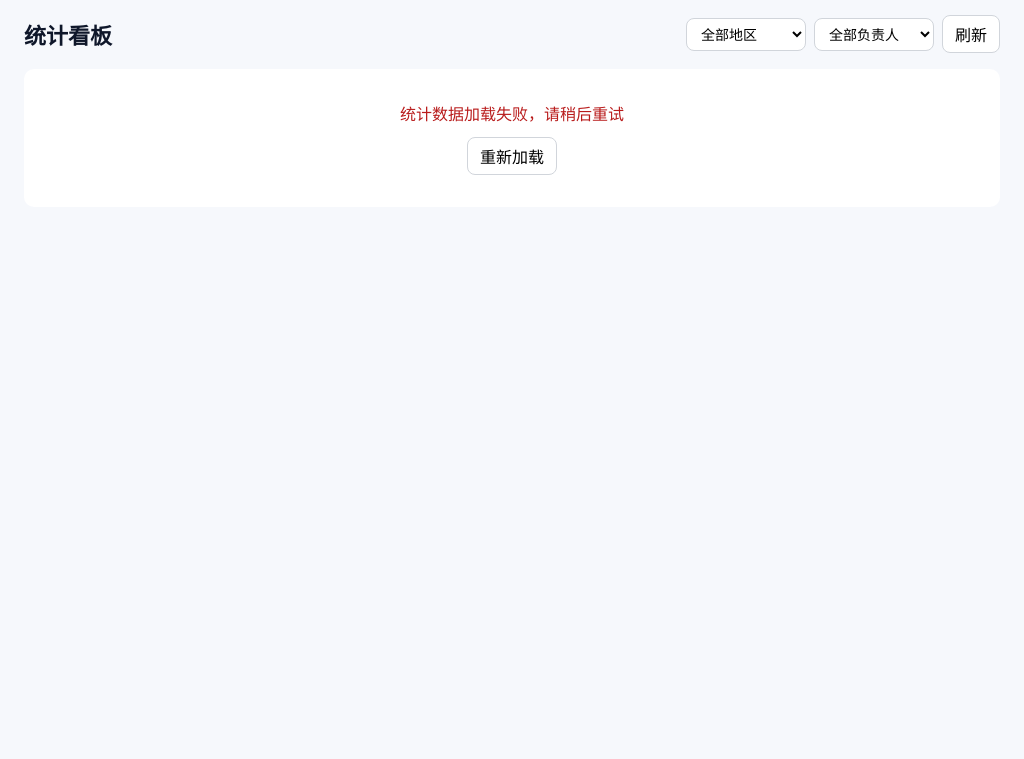
Test: 页面 › Statistics 处理空数据、错误和重试
Expected: the text "统计数据加载失败，请稍后重试" is shown, [400,104,624,124]
Click the button "重新加载" at (512, 156), box [467,137,557,175]
(page scrolled)
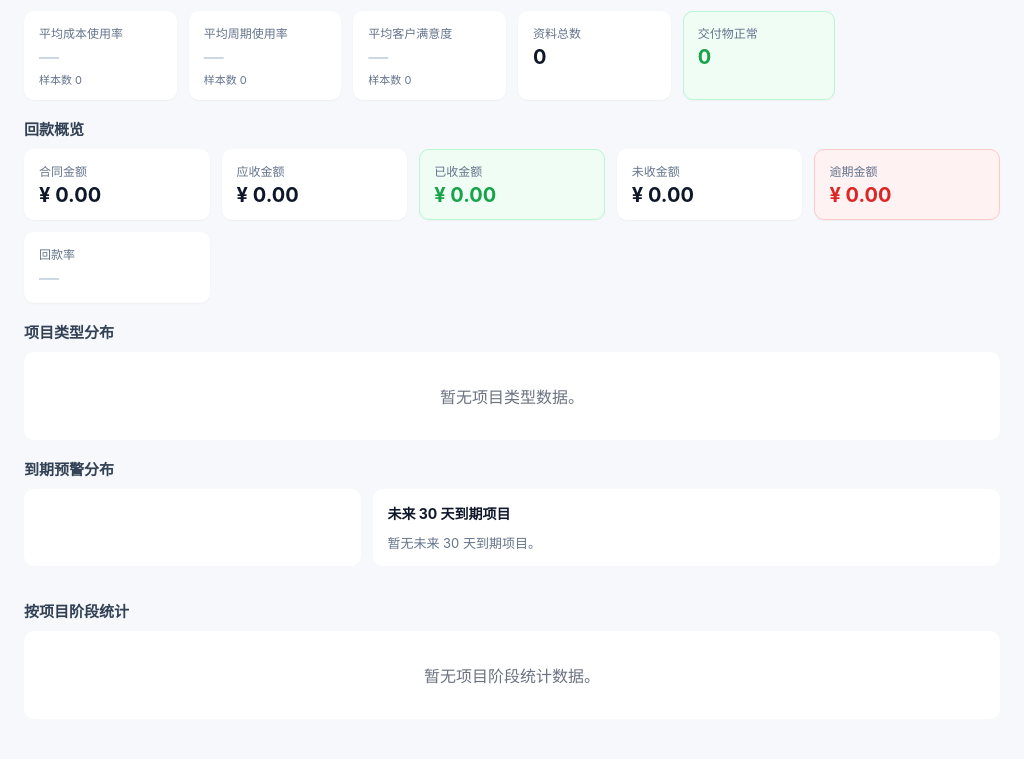
Expected: the text "暂无项目阶段统计数据。" is shown, [24,631,1000,719]
